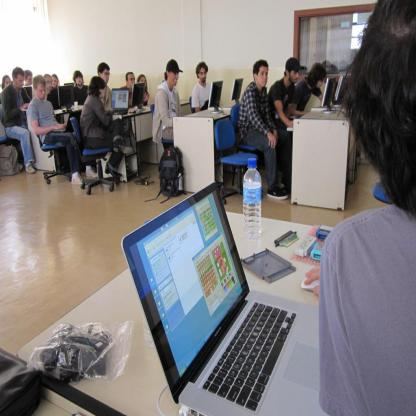board: (130, 195, 312, 416), (245, 159, 263, 238), (106, 89, 128, 114)
